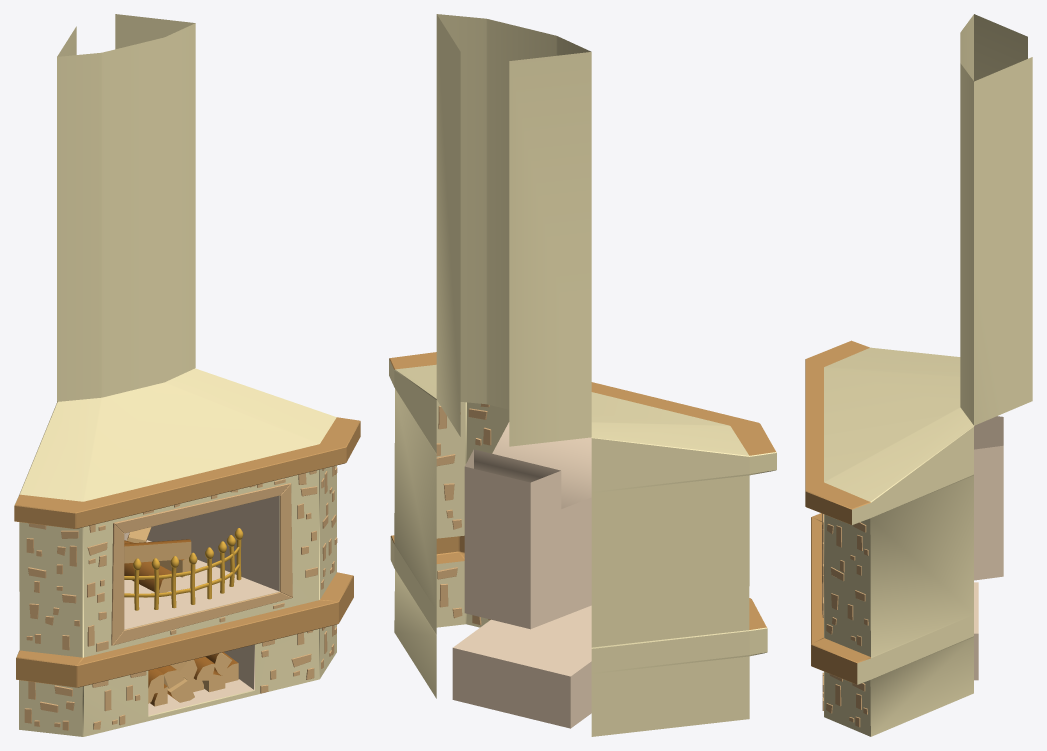
The model's file is Fireplase2.fbx.
The picture shows the model from 3 angles, left to right: view 1: azimuth 30°, elevation 25°; view 2: azimuth 150°, elevation 25°; view 3: azimuth 270°, elevation 25°; orthographic projection. The views are drawn at different scales.
Visible parts, largest first — view 1: Fireplase2; view 2: Fireplase2; view 3: Fireplase2.
Part boxes in pixels (bbox=[...]): Fireplase2: bbox=[14, 14, 360, 736]; Fireplase2: bbox=[389, 14, 776, 736]; Fireplase2: bbox=[805, 14, 1032, 736].
Bounding box in the file's own units: 1.76 × 2.98 × 1.
